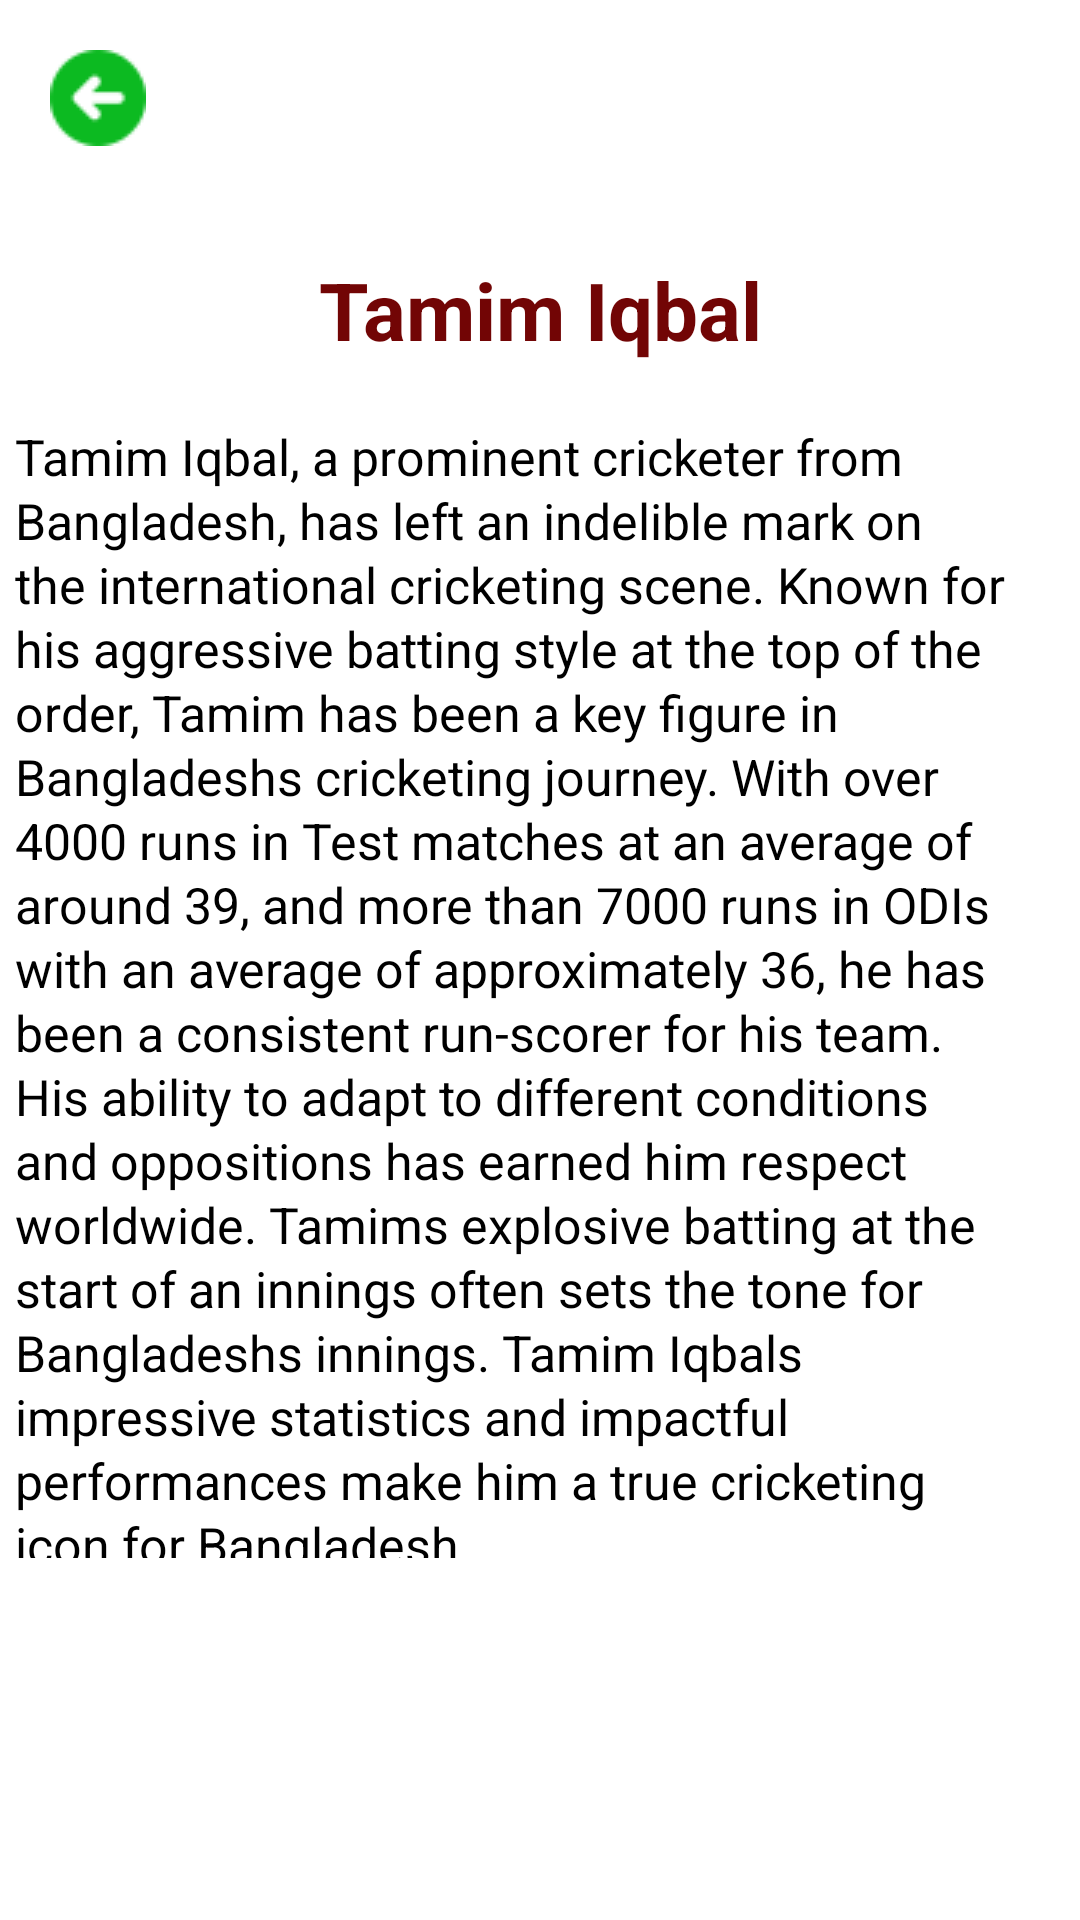

Icons on this 1080px×1920px Android screen, each with its box as (x1, y1, x2, y2):
previous: (50, 50, 146, 146)
